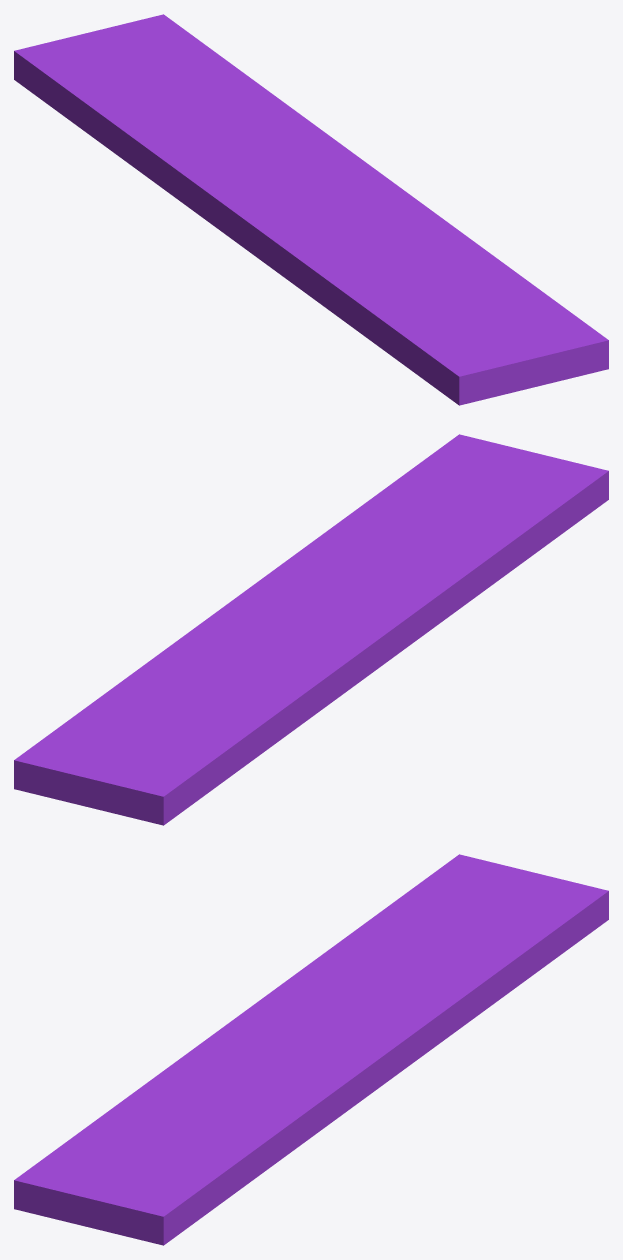
File: StairsStep_87_chunks.fbx
3 views of the same model, one above another, from view 1: azimuth 30°, elevation 25°; view 2: azimuth 150°, elevation 25°; view 3: azimuth 330°, elevation 25° (orthographic).
Parts seen in each view (by area): view 1: StairsStep_87_3, StairsStep_87_2, StairsStep_87_1, StairsStep_87_0; view 2: StairsStep_87_2, StairsStep_87_3, StairsStep_87_1, StairsStep_87_0; view 3: StairsStep_87_2, StairsStep_87_3, StairsStep_87_0, StairsStep_87_1.
Part boxes in pixels (bbox=[...]): StairsStep_87_3: bbox=[259, 192, 554, 405]; StairsStep_87_2: bbox=[19, 14, 403, 194]; StairsStep_87_1: bbox=[14, 49, 298, 271]; StairsStep_87_0: bbox=[371, 190, 608, 405]; StairsStep_87_2: bbox=[14, 584, 310, 822]; StairsStep_87_3: bbox=[279, 447, 608, 632]; StairsStep_87_1: bbox=[151, 617, 426, 825]; StairsStep_87_0: bbox=[255, 434, 512, 594]; StairsStep_87_2: bbox=[312, 855, 608, 1087]; StairsStep_87_3: bbox=[14, 1029, 343, 1209]; StairsStep_87_0: bbox=[15, 1057, 379, 1245]; StairsStep_87_1: bbox=[214, 854, 463, 1033].
Bounding box in the file's own units: 157 × 28.98 × 810.
